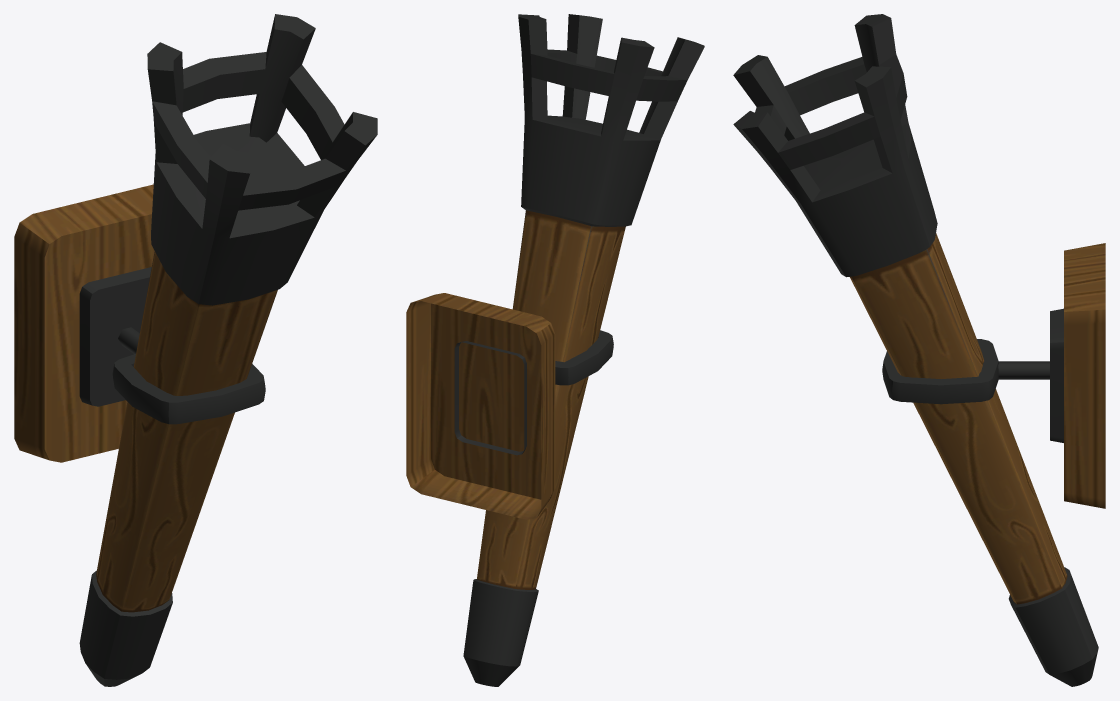
The model's file is wall torch.glb.
3 renders of one model, left to right at view 1: azimuth 30°, elevation 25°; view 2: azimuth 150°, elevation 25°; view 3: azimuth 270°, elevation 25°, orthographic. The views are drawn at different scales.
Parts seen in each view (by area): view 1: WallTorch; view 2: WallTorch; view 3: WallTorch.
Boxes of the visible parts, box(x1,y1,x2,y2) form: WallTorch: box(14, 14, 377, 686); WallTorch: box(406, 14, 704, 686); WallTorch: box(733, 14, 1105, 686).
Bounding box in the file's own units: 0.1783 × 0.734 × 0.3863.
1 material, 1 textured.
